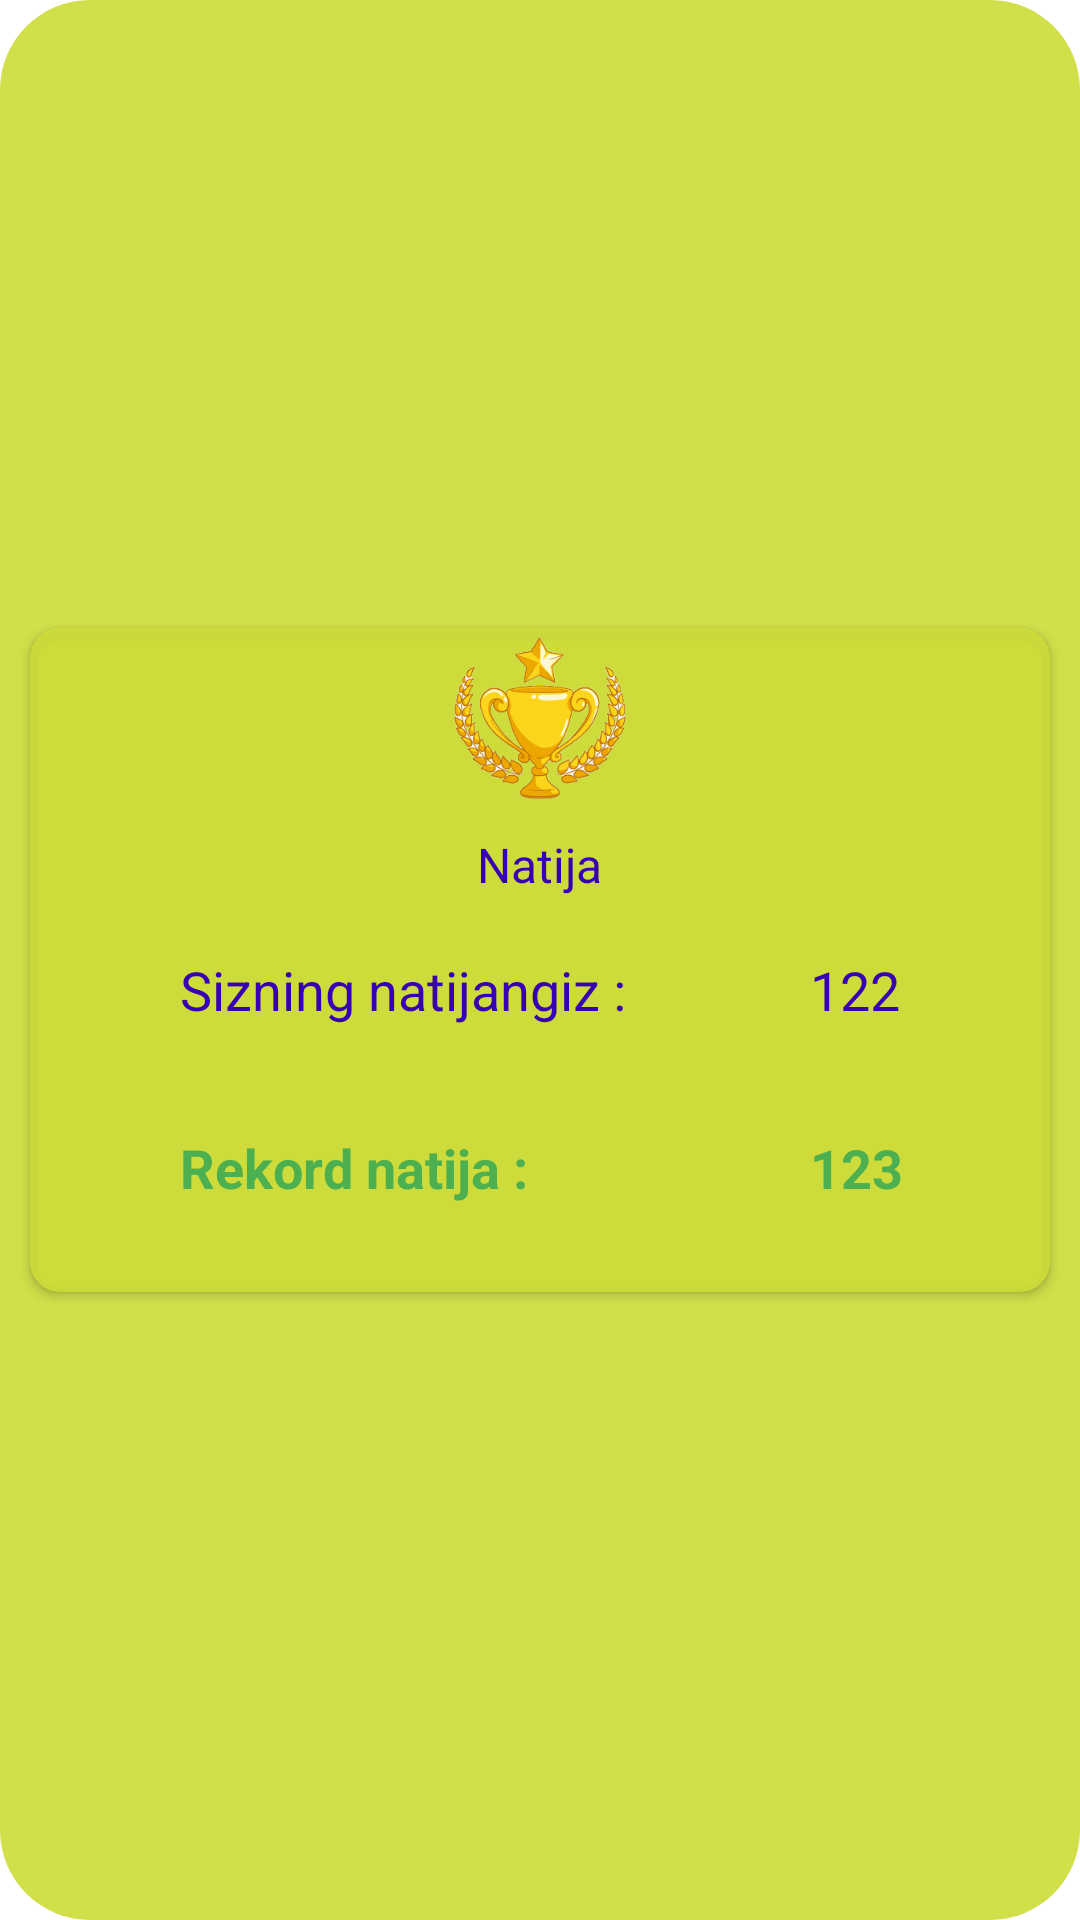

Where icons sit on this 1080*1920 app screen, as (x1, y1, x2, y2):
prize: (454, 637, 626, 799)
